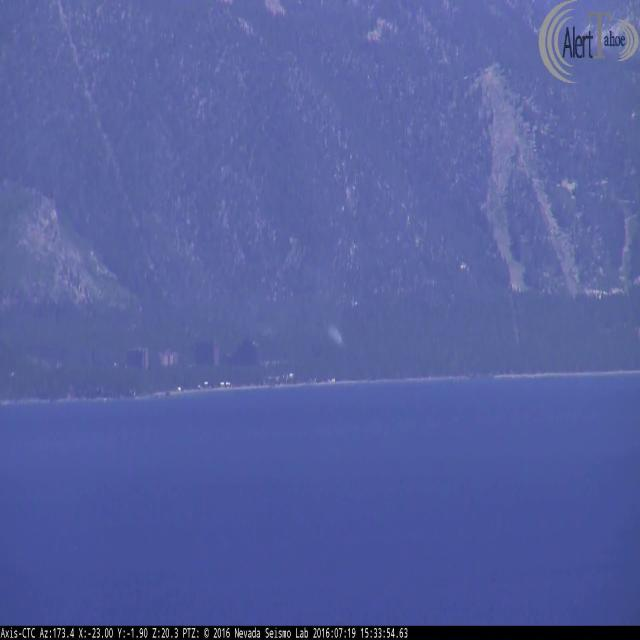smoke: (317, 304, 356, 351)
